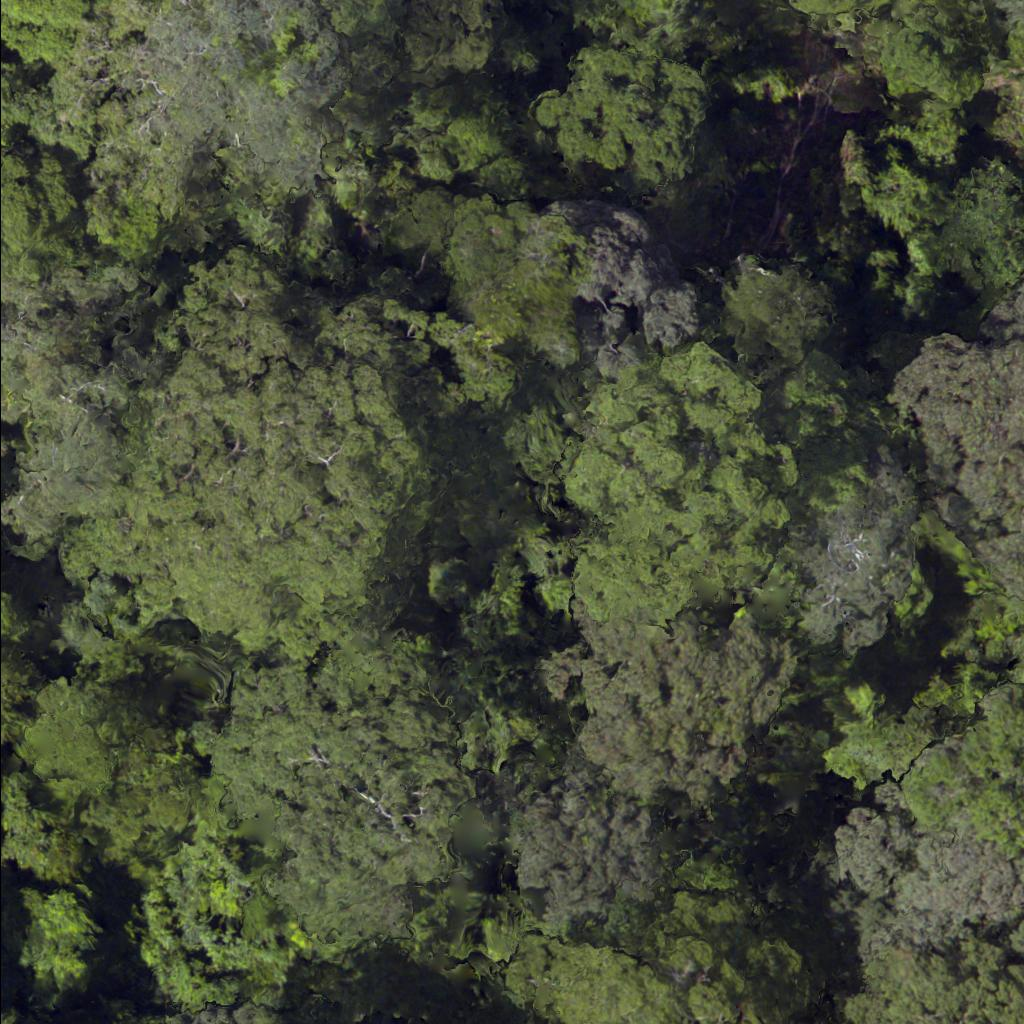crown: (63, 249, 420, 659), (557, 337, 805, 628), (47, 0, 346, 218), (539, 614, 801, 801), (0, 266, 149, 554), (885, 334, 1023, 606), (531, 42, 707, 192), (793, 465, 927, 656), (721, 252, 824, 363), (941, 157, 1023, 288), (0, 0, 85, 58), (0, 148, 33, 253), (332, 0, 396, 35), (0, 58, 30, 129), (985, 281, 1023, 336), (785, 0, 891, 16)
